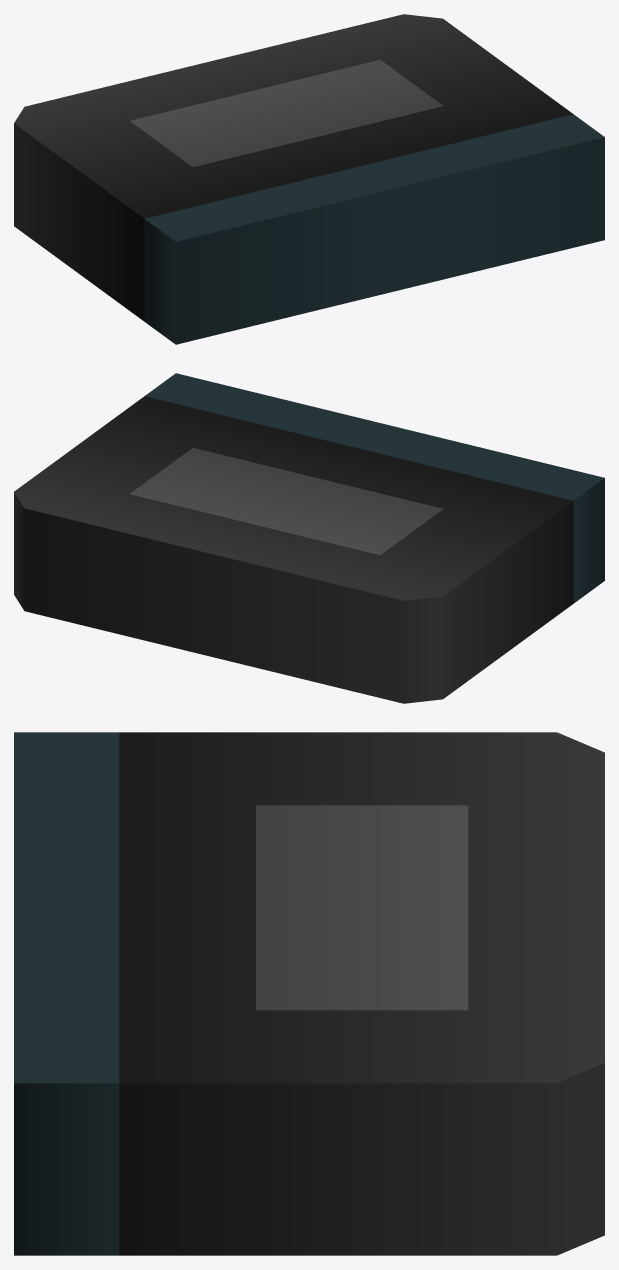
Rendered from tape-tv.fbx.
3 renders of one model, top to bottom at view 1: azimuth 30°, elevation 25°; view 2: azimuth 150°, elevation 25°; view 3: azimuth 270°, elevation 25°, orthographic. The views are drawn at different scales.
Visible parts, largest first — view 1: tape; view 2: tape; view 3: tape.
Part boxes in pixels (x1=…): tape: x1=14, y1=14, x2=604, y2=344; tape: x1=14, y1=373, x2=604, y2=703; tape: x1=14, y1=732, x2=604, y2=1255.
Size of the model in its own units: 0.4032 by 0.0925 by 0.287.
